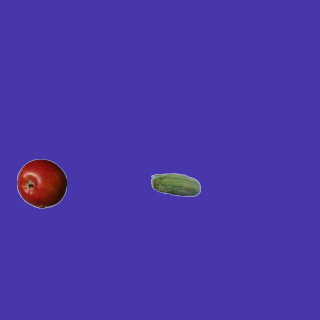Apple Braeburn: (16, 158, 66, 208)
Corn Husk: (150, 161, 200, 211)
